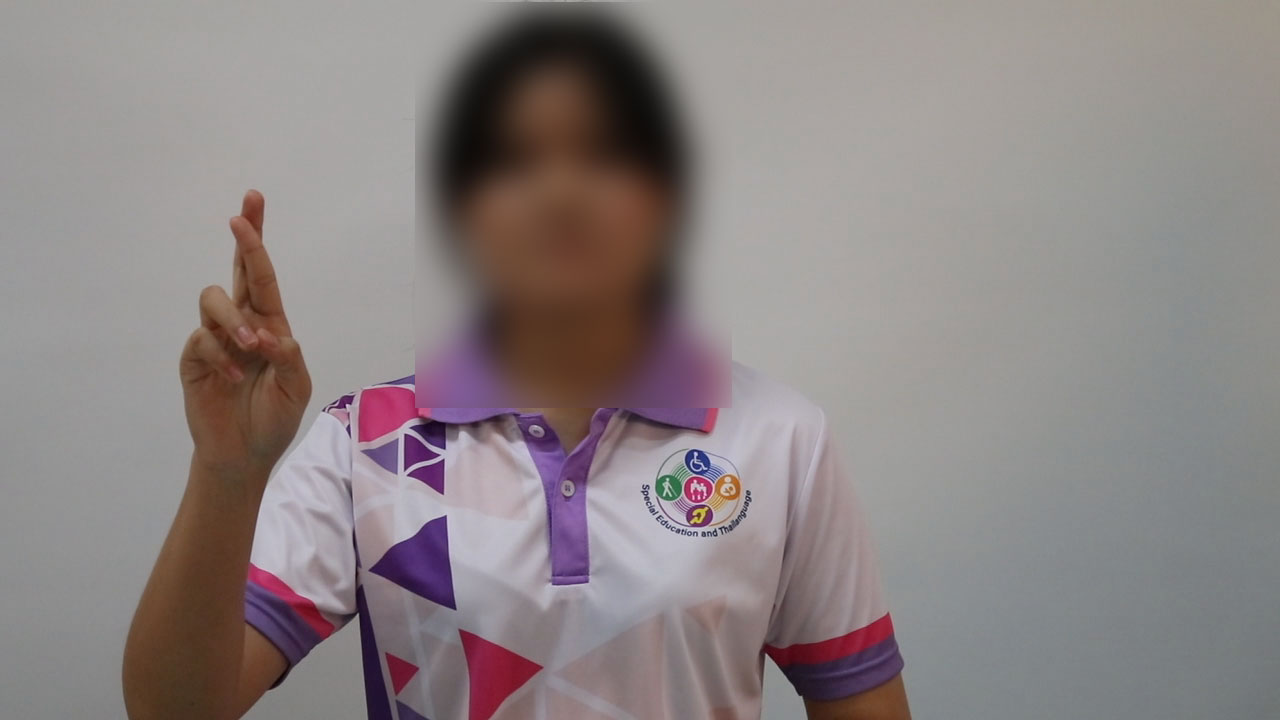rao: (167, 182, 321, 481)
